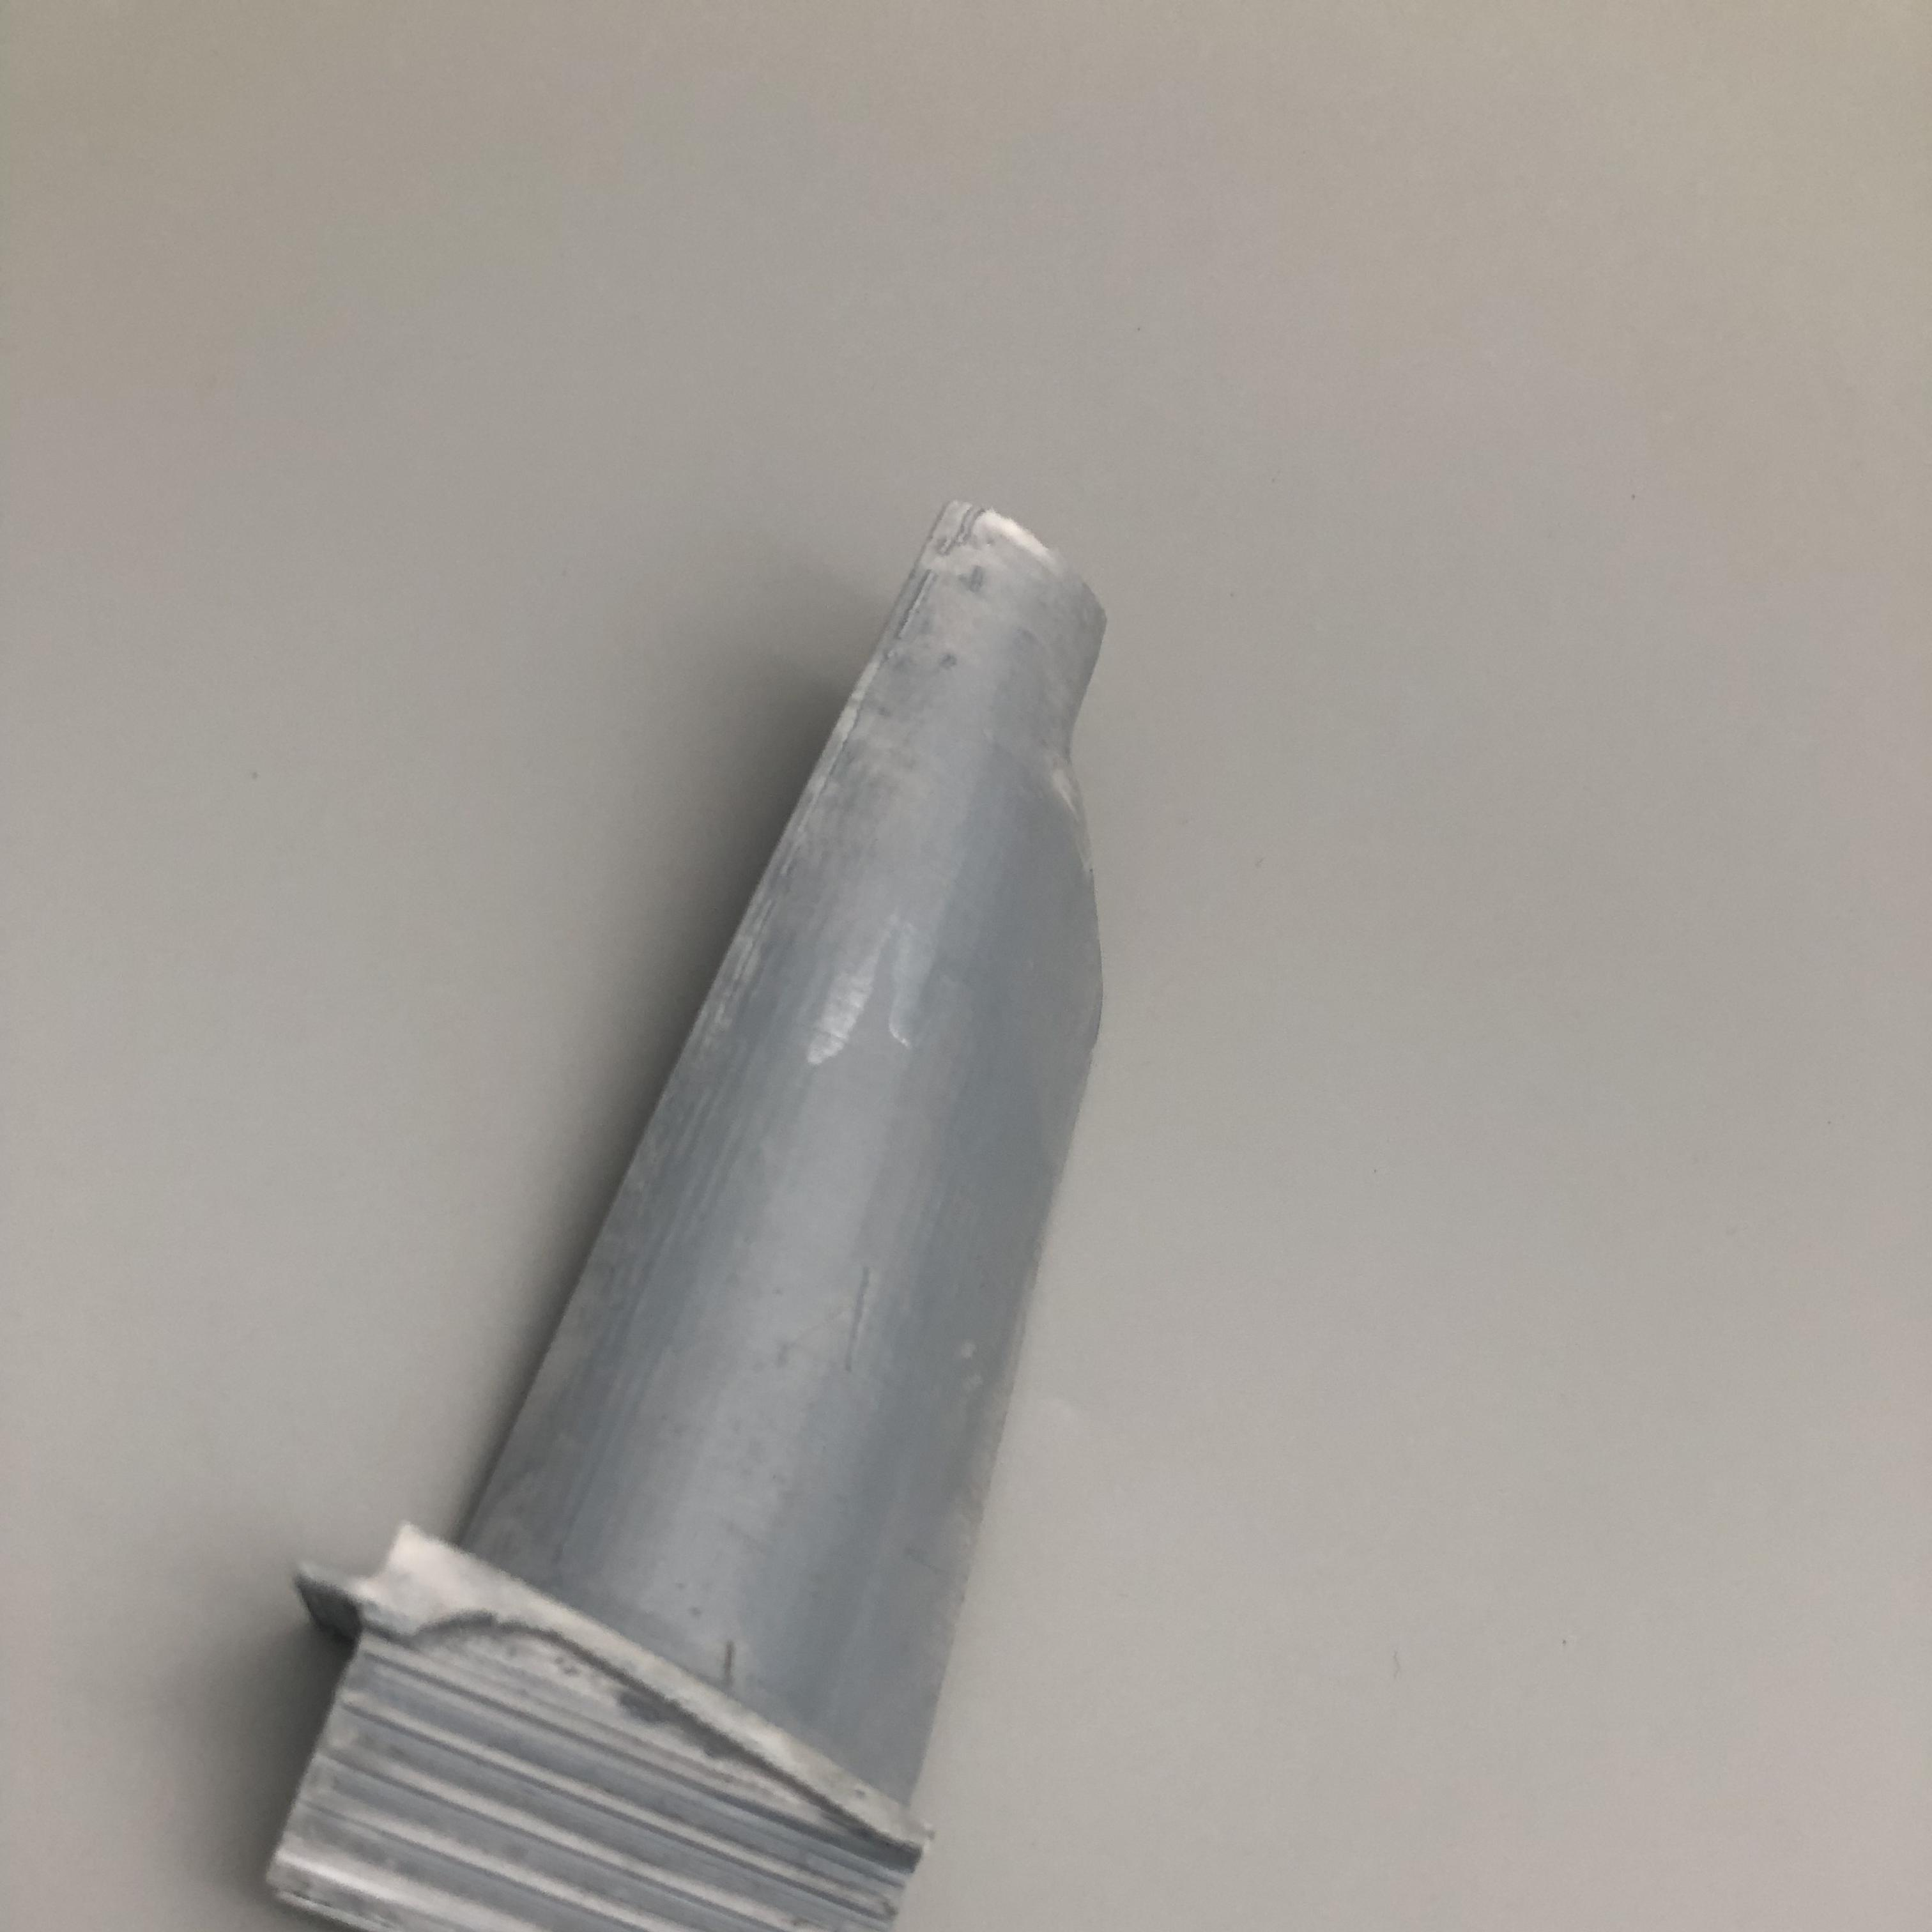fracture: (1039, 610, 1157, 1028)
